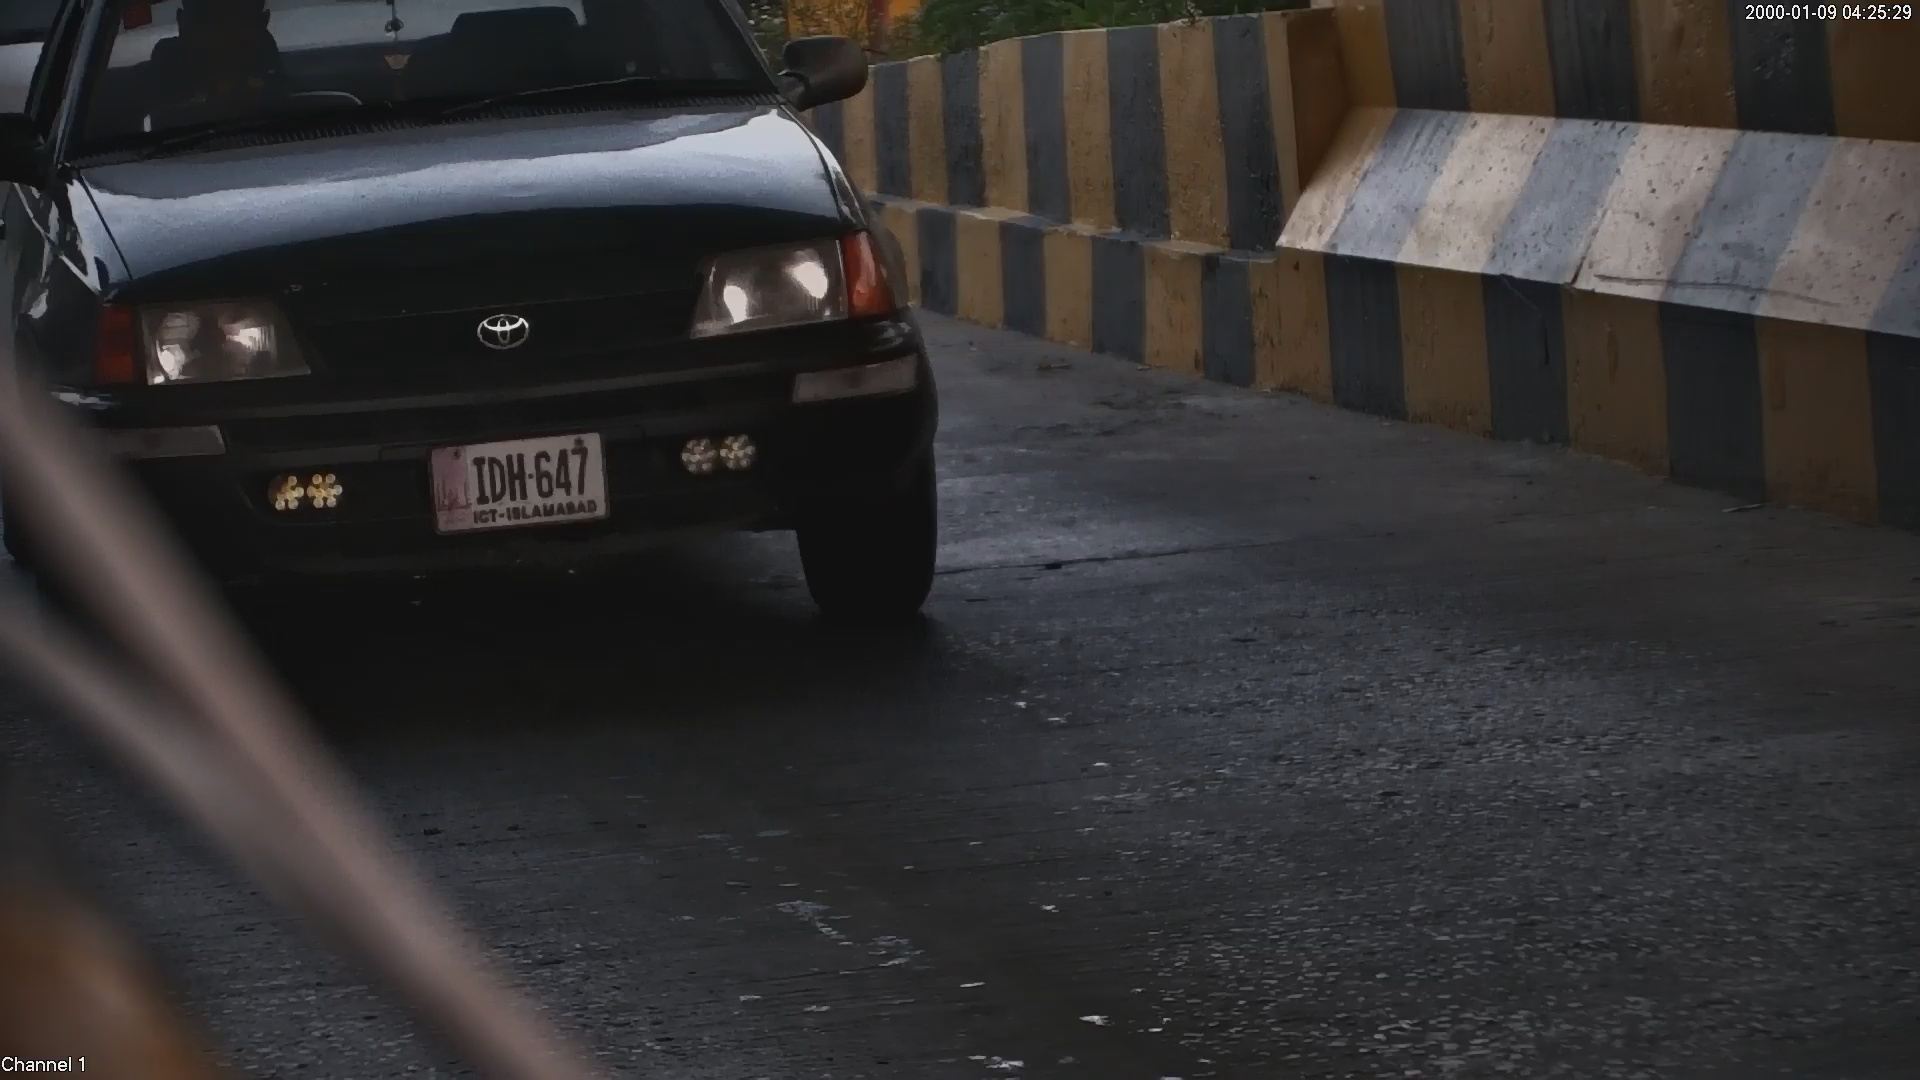Number_Plate: (417, 427, 619, 533)
